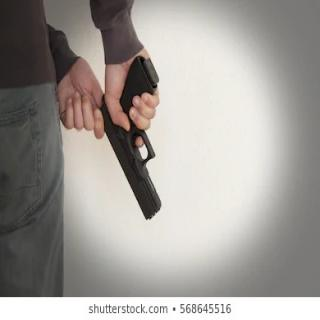gun: (97, 46, 162, 217)
